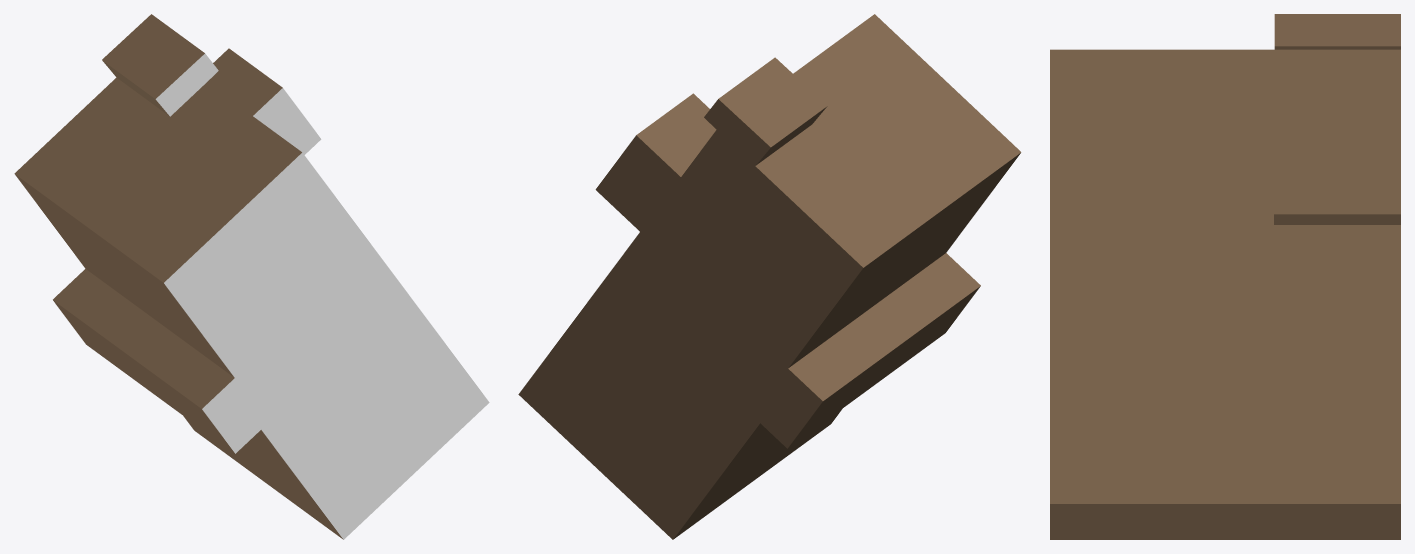
3 views of the same model, side by side, from view 1: azimuth 30°, elevation 25°; view 2: azimuth 150°, elevation 25°; view 3: azimuth 270°, elevation 25° (orthographic). The views are drawn at different scales.
Visible parts, largest first — view 1: City_1885470; view 2: City_1885470; view 3: City_1885470.
Part boxes in pixels (<box>): City_1885470: <box>14,14,489,539</box>; City_1885470: <box>518,14,1021,539</box>; City_1885470: <box>1050,14,1400,539</box>.
Bounding box in the file's own units: 1854 × 2322 × 1472.
